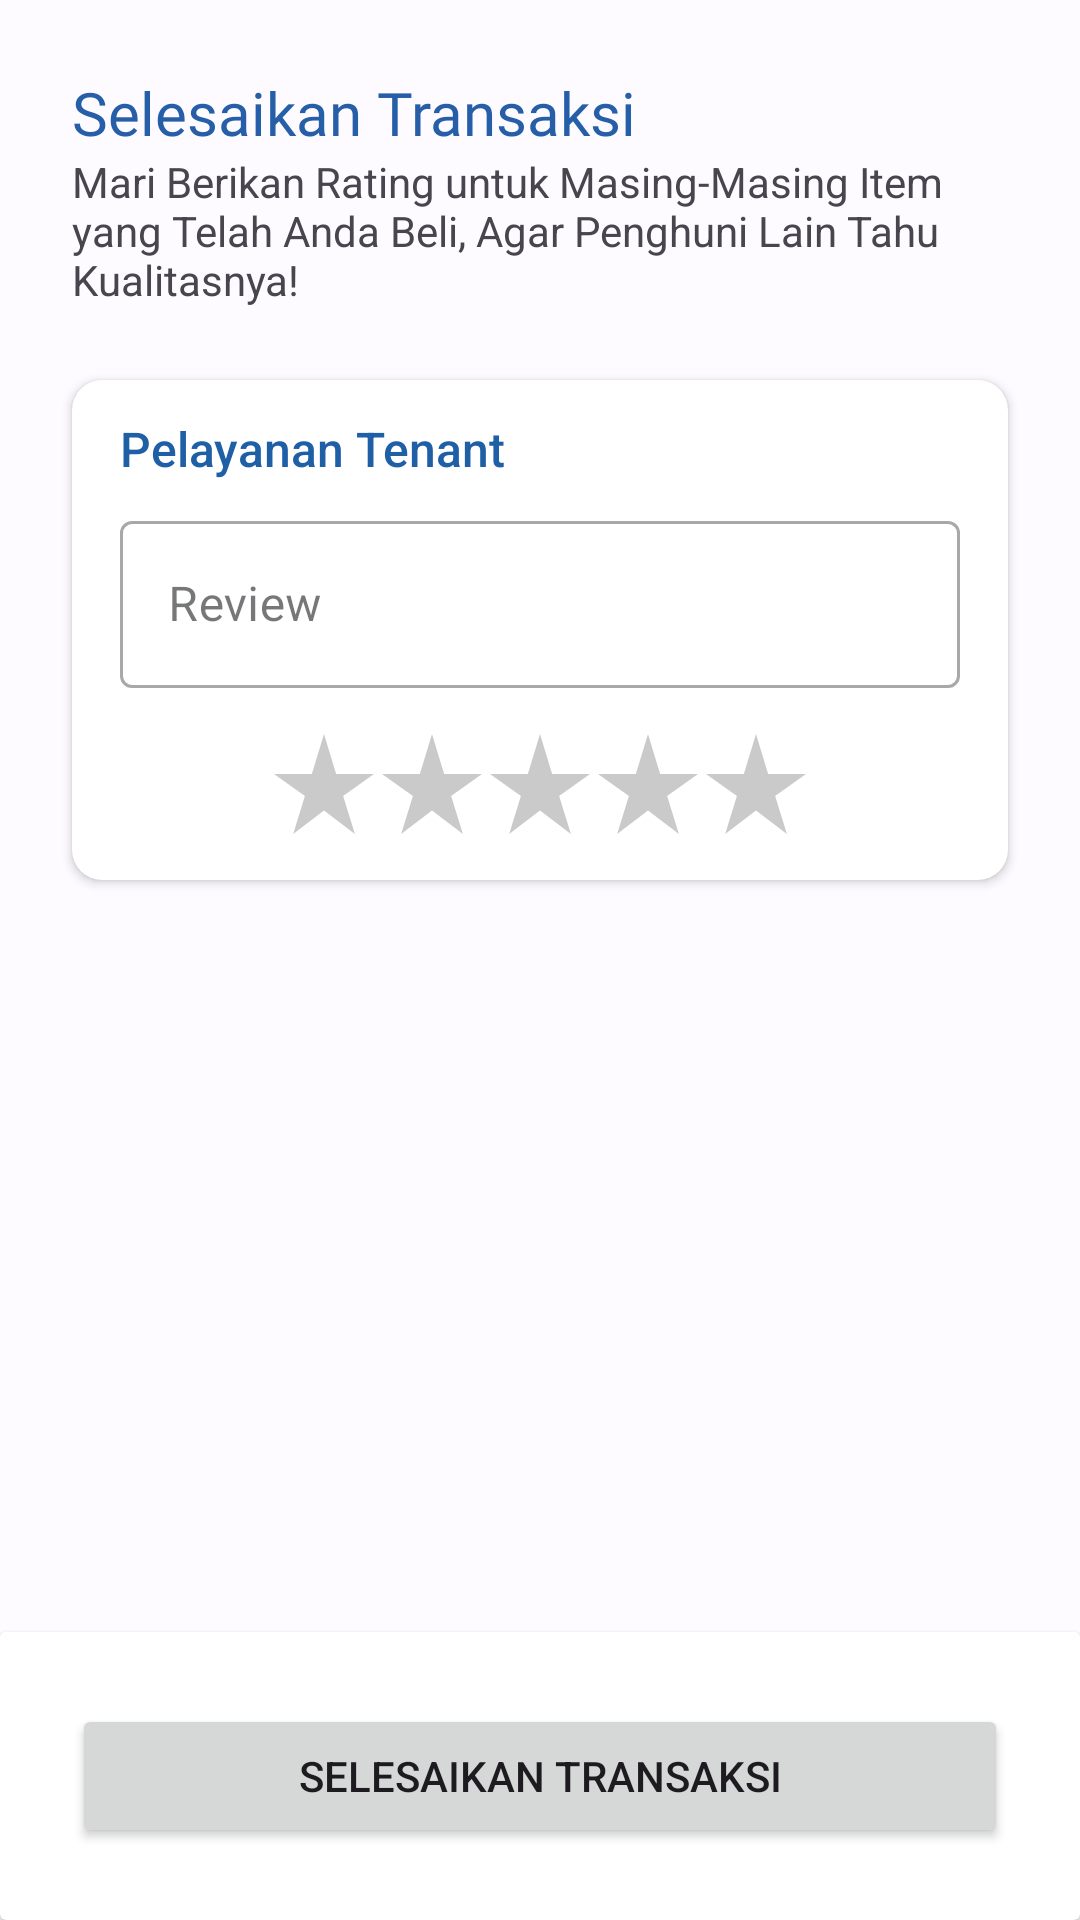

Point at icon controls on the screen. Image size 1080x1920, points as (x=x, y=y).
star rate: (x=324, y=784), (x=432, y=784), (x=540, y=784), (x=648, y=784), (x=756, y=784)
